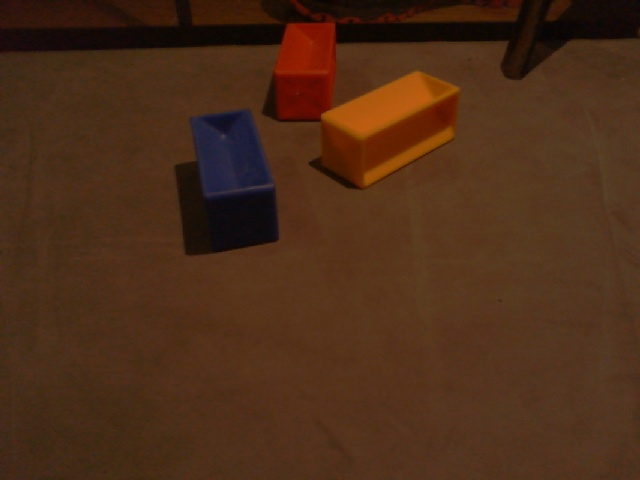BlueSample: (189, 107, 282, 253)
RedSample: (273, 20, 339, 123)
YellowSample: (317, 67, 460, 188)
